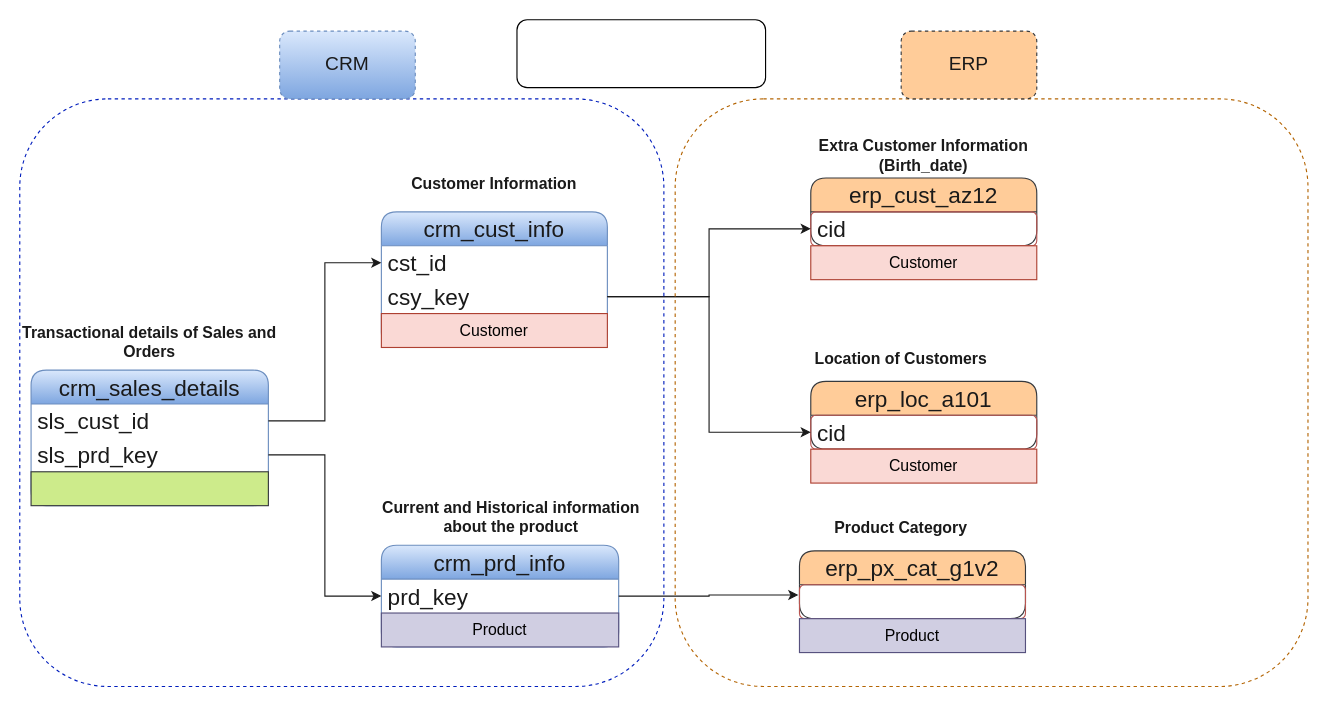
This 1328x706 diagram has some shape labels left out. Here are the shapes that lost their labels. From the top down, the centre of each, then its label:
At point (641, 53): "Data Integration Model".
At point (149, 488): "Sales".
At point (911, 601): "id".
